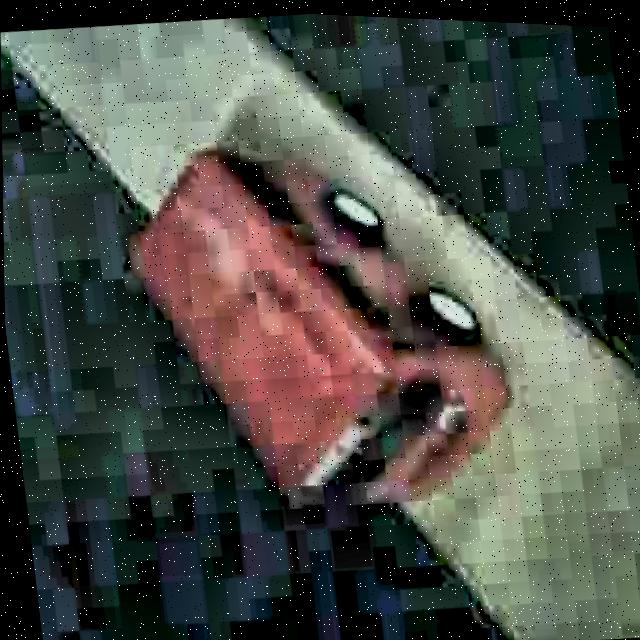bus: (116, 113, 523, 531)
